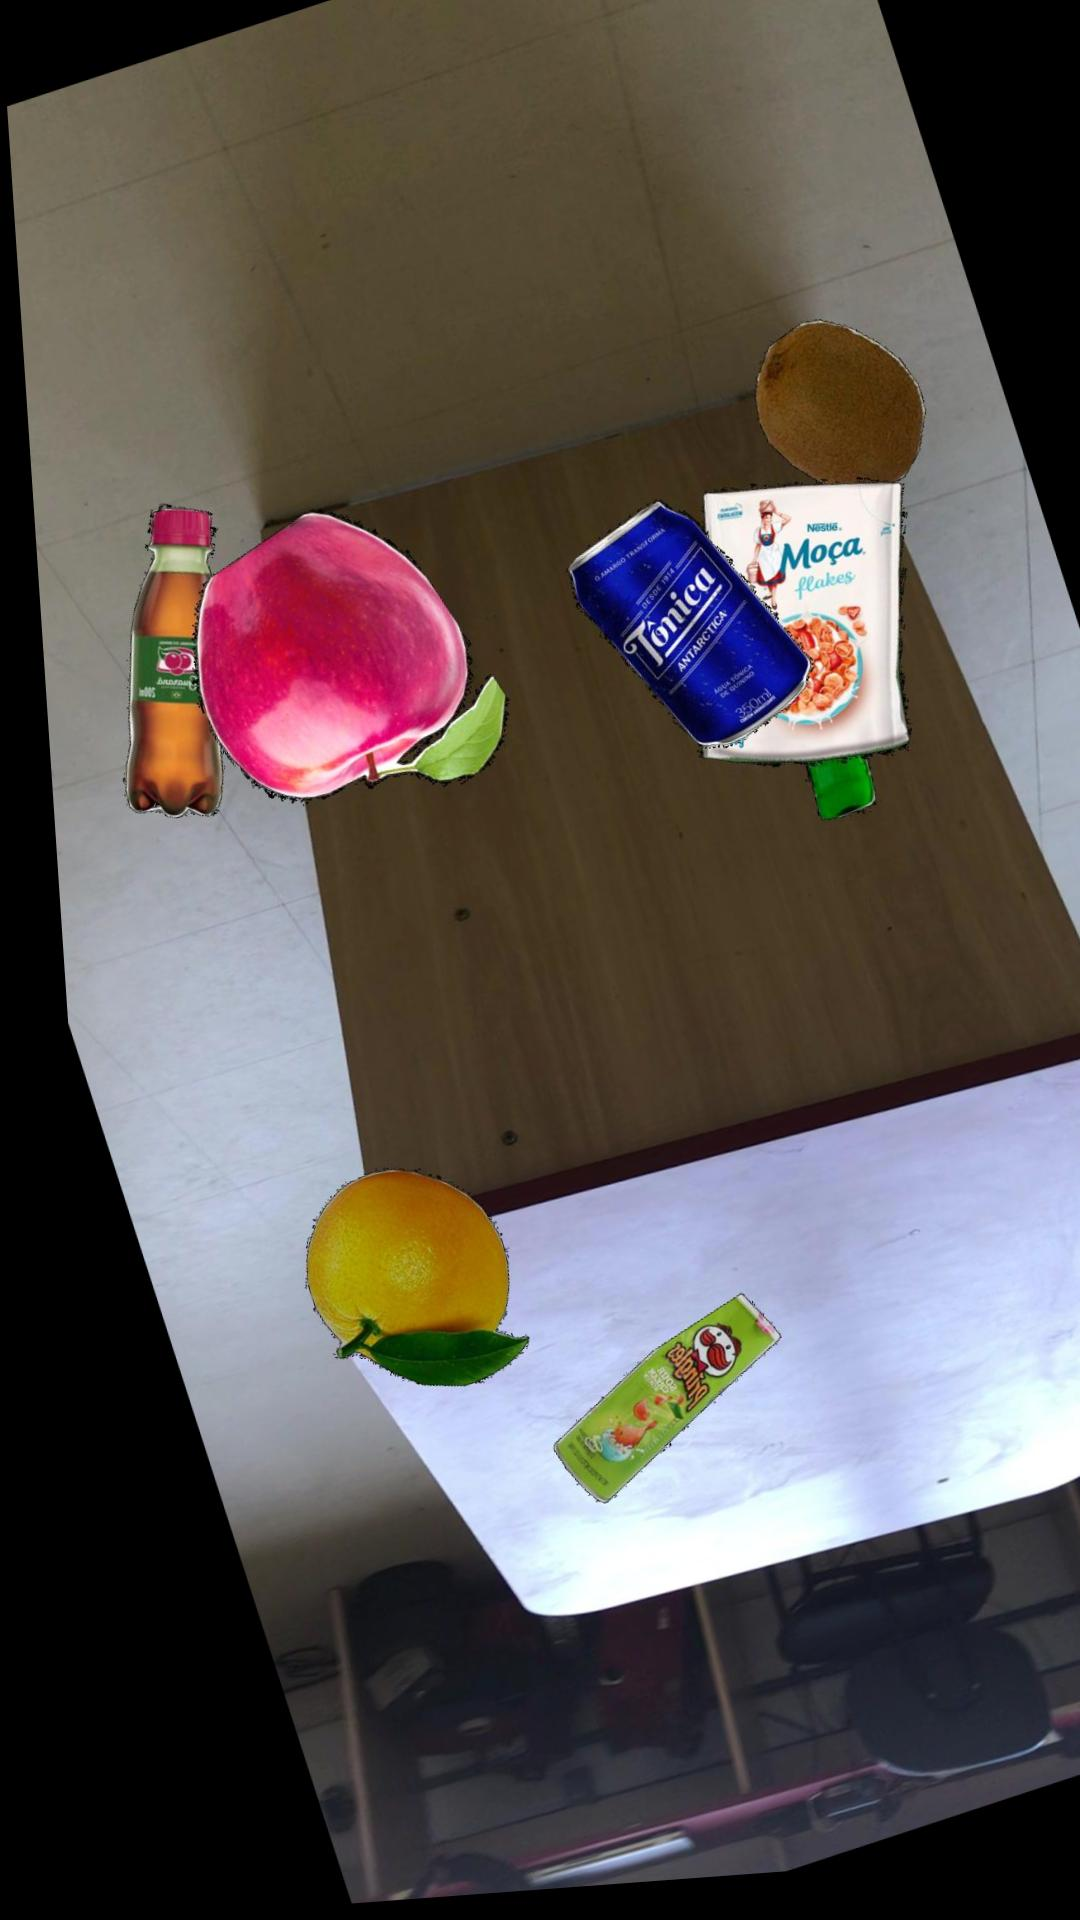apple: (179, 514, 497, 808)
cleaner: (791, 769, 862, 833)
corn flakes: (686, 495, 898, 779)
guarana: (112, 508, 211, 822)
kiwi: (746, 332, 918, 498)
orange: (285, 1175, 508, 1394)
pringles: (530, 1304, 760, 1513)
tonic: (555, 510, 802, 760)
